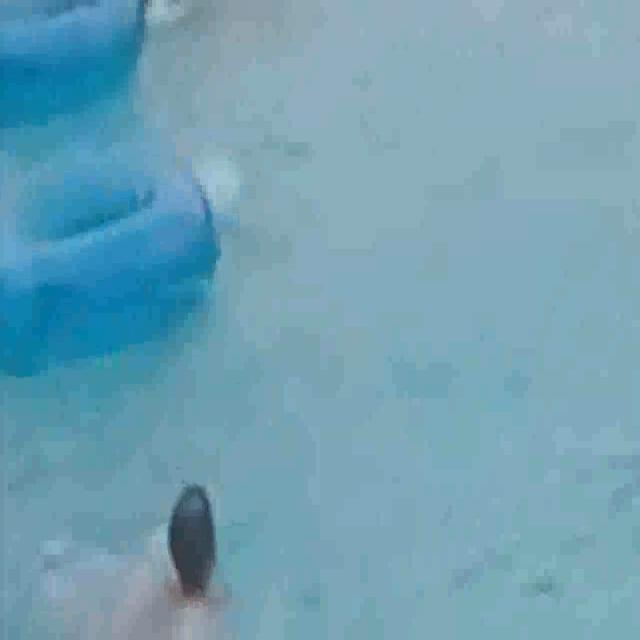Out of Water: (164, 148, 285, 260)
